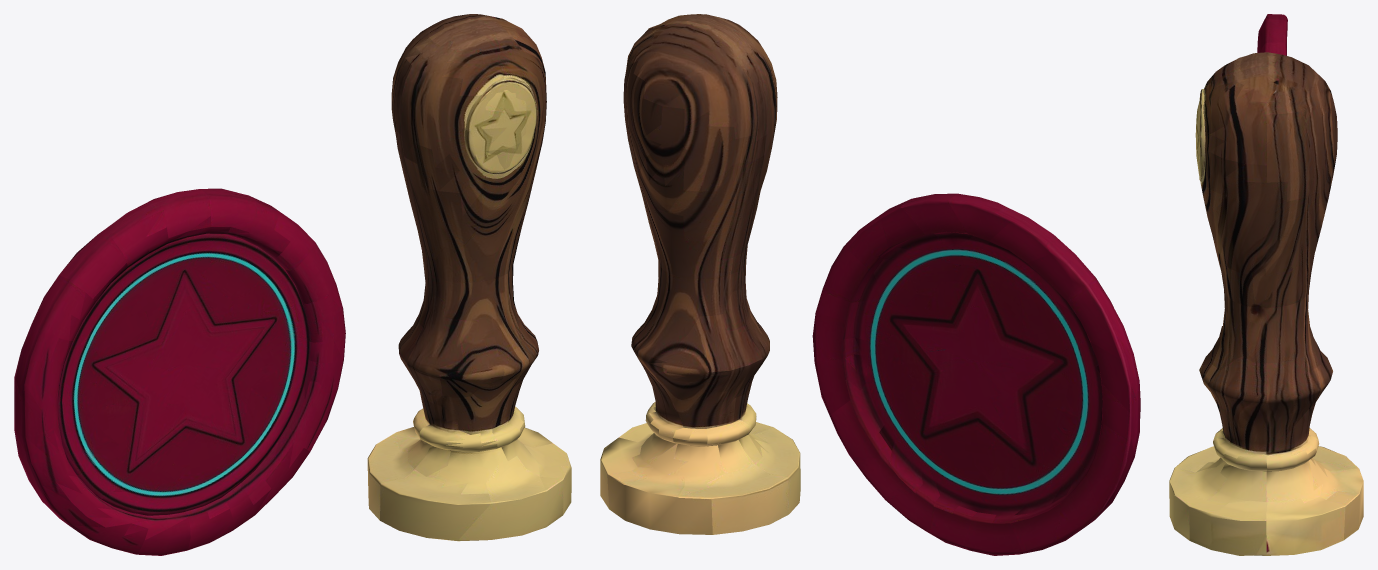
The model's file is seal_of_quality.glb.
3 views of the same model, side by side, from view 1: azimuth 30°, elevation 25°; view 2: azimuth 150°, elevation 25°; view 3: azimuth 270°, elevation 25° (orthographic). The views are drawn at different scales.
Size of the model in its own units: 1 by 0.8633 by 0.333.
Materials: 1 (1 with a texture image).
